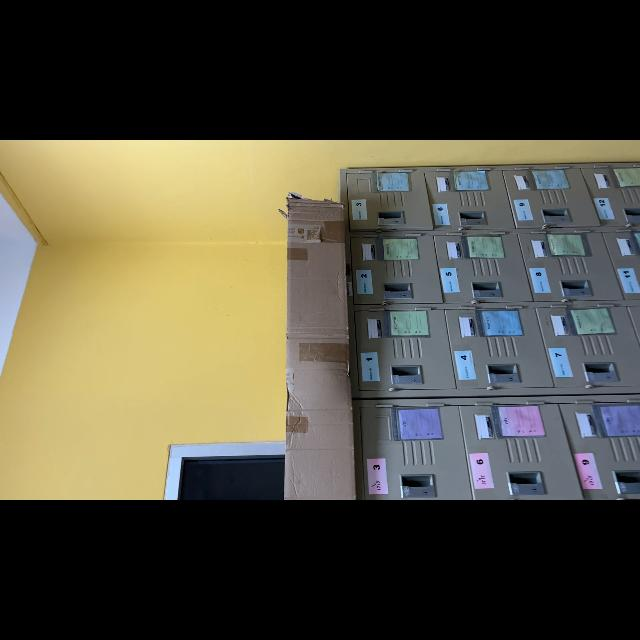cardboard_box: (280, 184, 362, 500)
